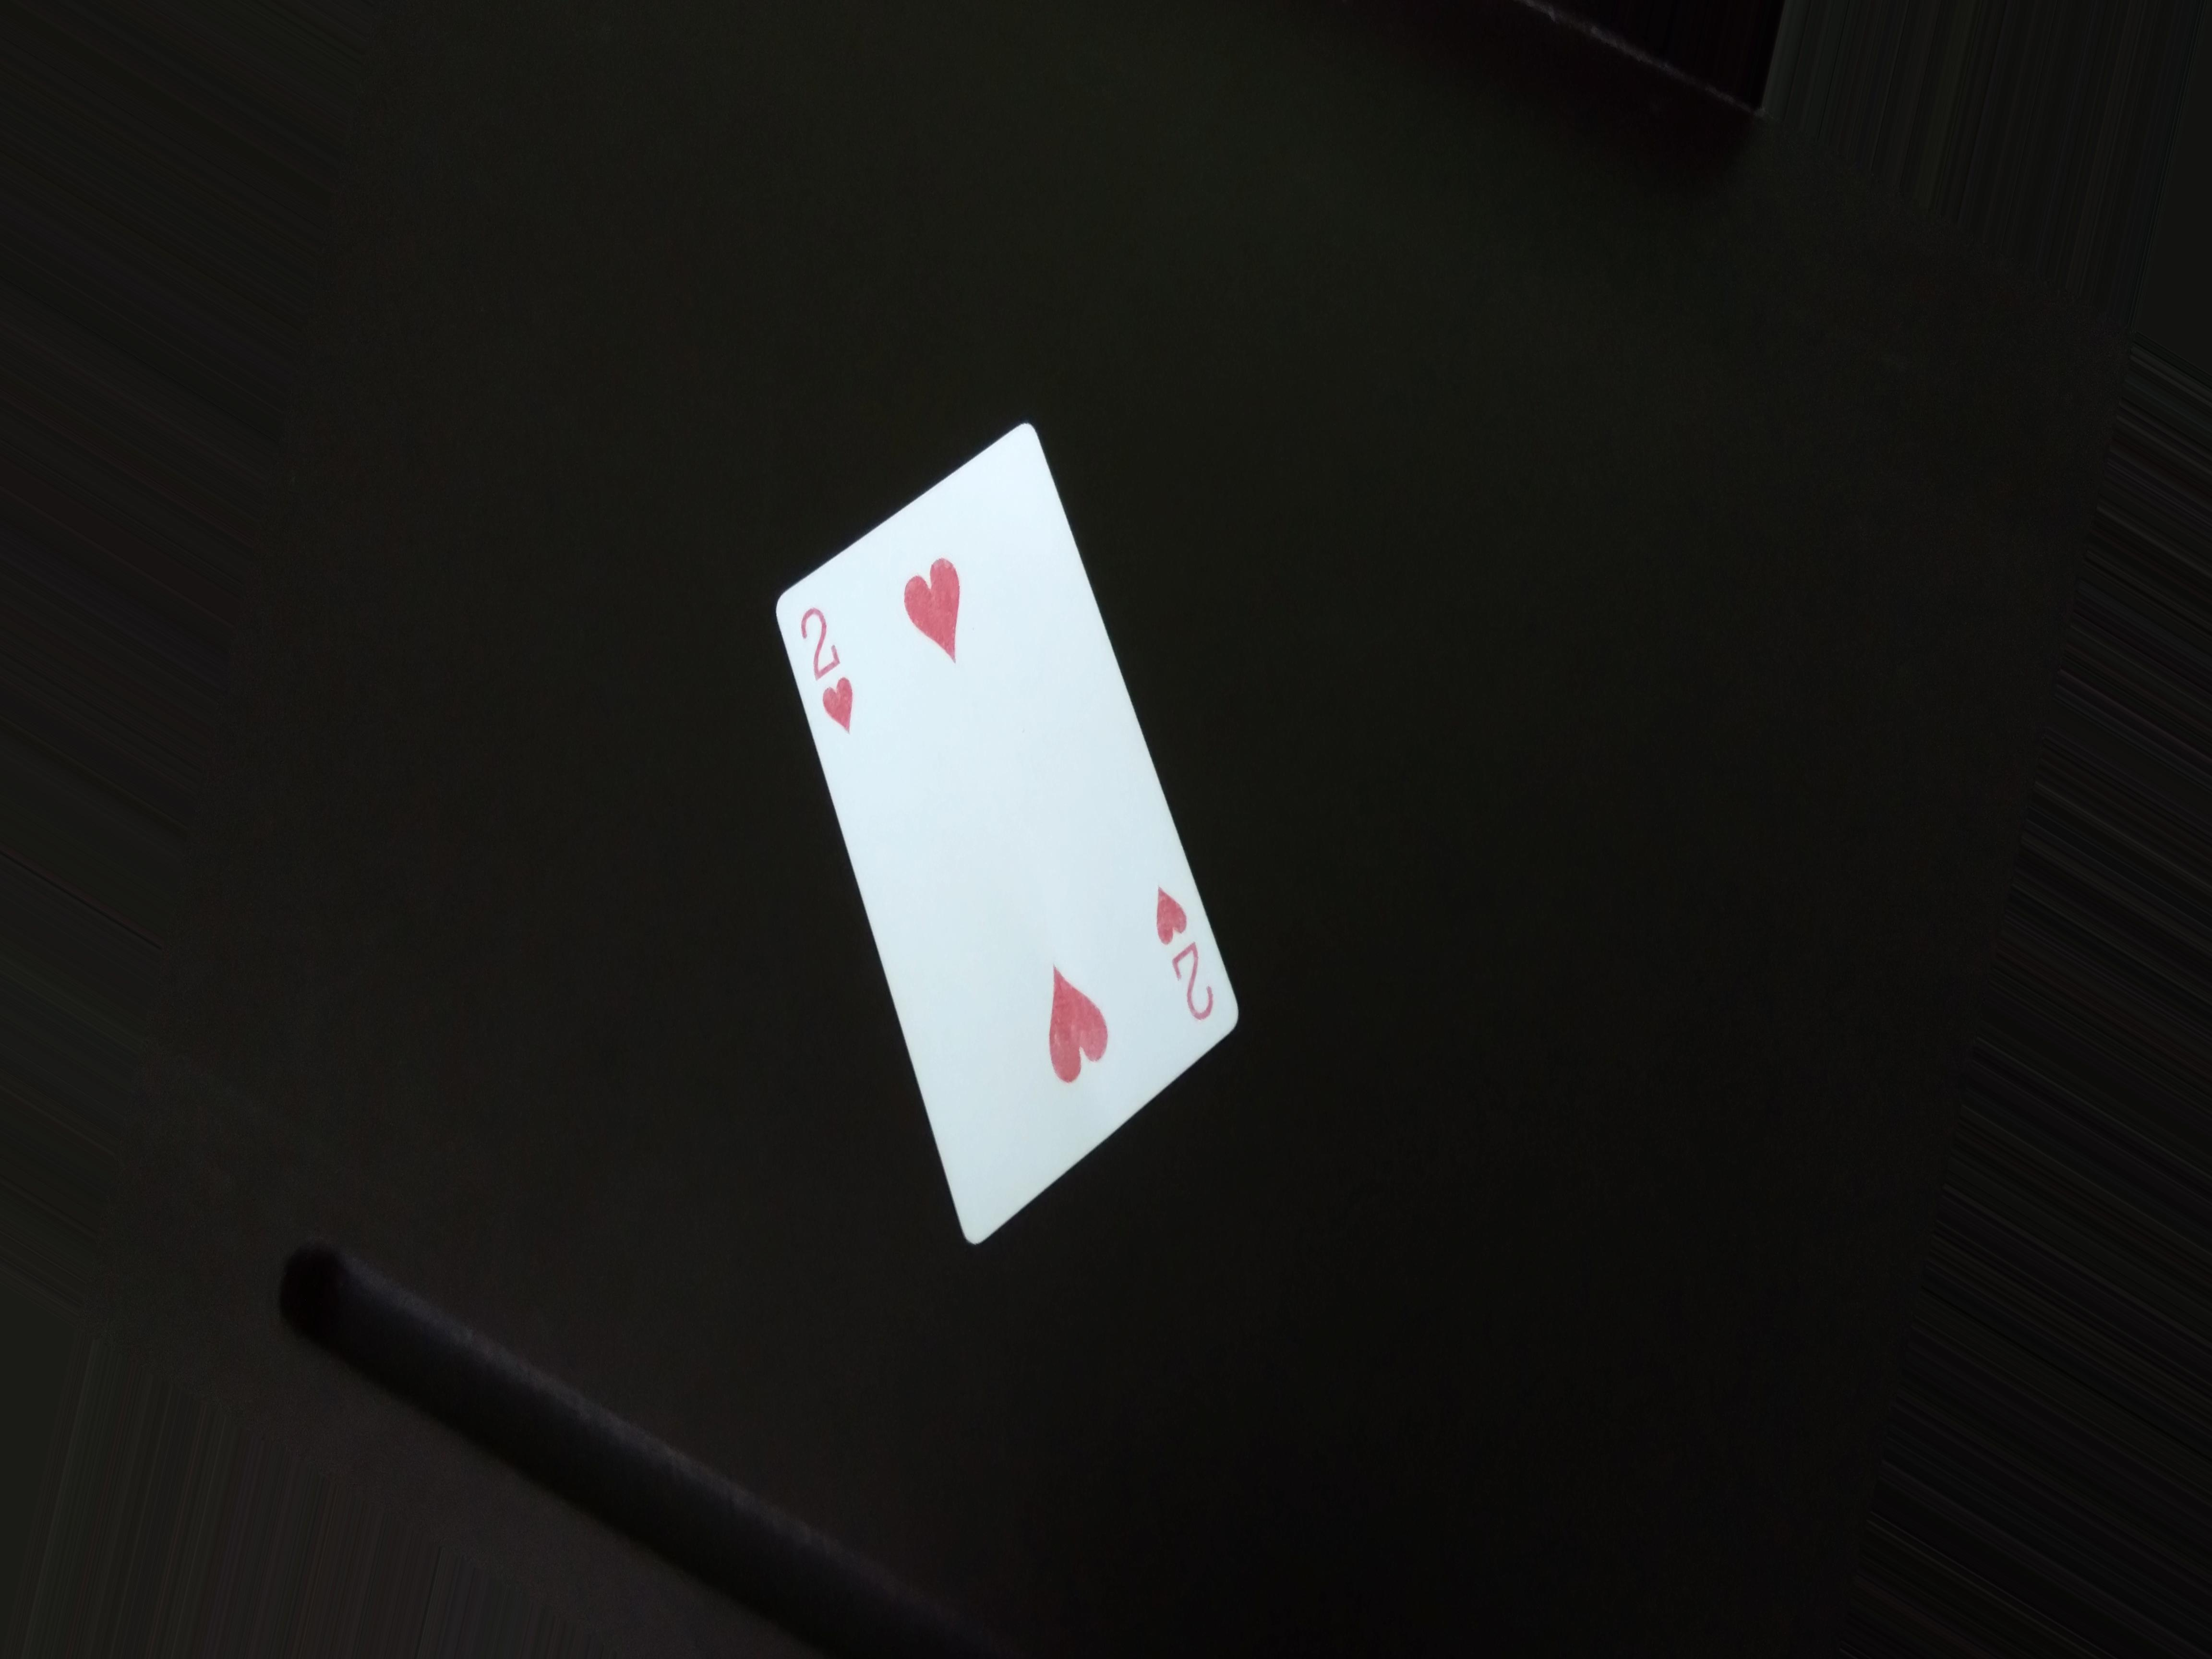2H: (1141, 870, 1226, 1030)
